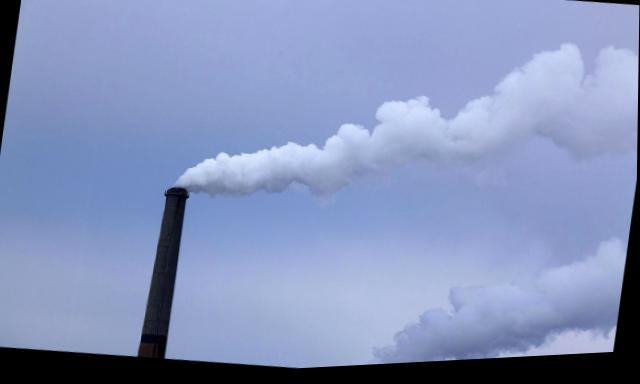smoke: (495, 76, 638, 149), (549, 258, 624, 330), (219, 150, 339, 191), (467, 289, 541, 355), (374, 104, 439, 166), (442, 116, 490, 163), (188, 165, 253, 195), (539, 53, 581, 86), (342, 132, 370, 178)
